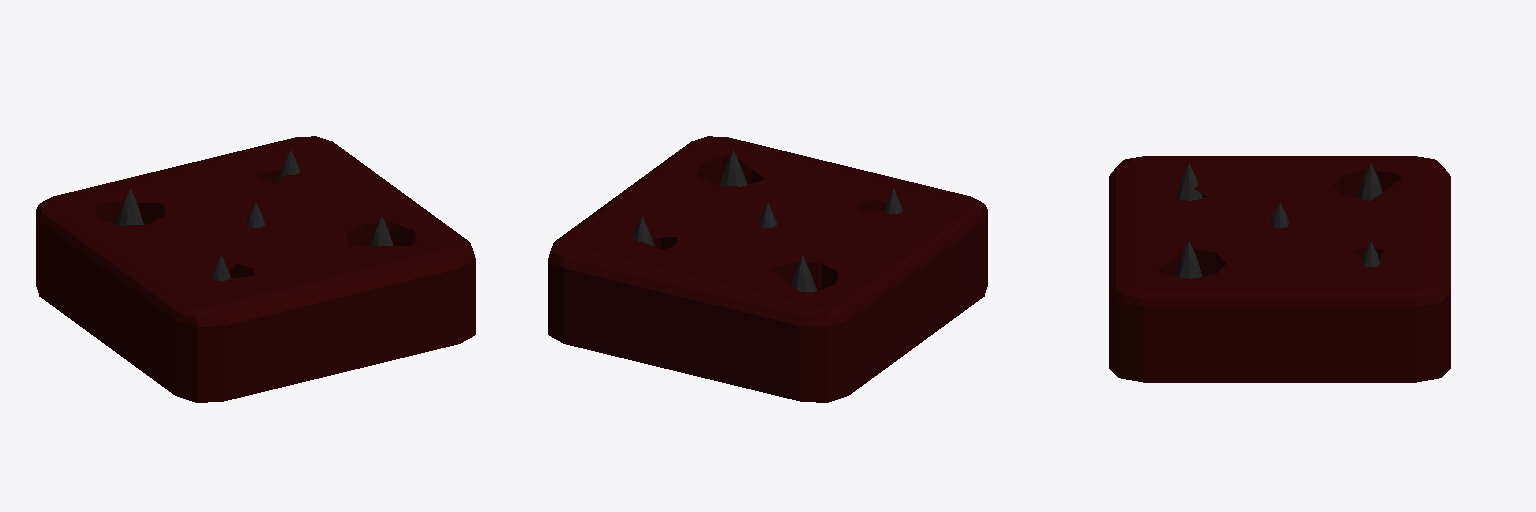
File: Hazard_SpikeTrap.obj
3 renders of one model, left to right at view 1: azimuth 30°, elevation 25°; view 2: azimuth 150°, elevation 25°; view 3: azimuth 270°, elevation 25°, orthographic.
Parts seen in each view (by area): view 1: Hazard_SpikeTrap_Cube.183; view 2: Hazard_SpikeTrap_Cube.183; view 3: Hazard_SpikeTrap_Cube.183.
Boxes of the visible parts, <box> form: Hazard_SpikeTrap_Cube.183: <box>36,136,475,402</box>; Hazard_SpikeTrap_Cube.183: <box>548,136,987,402</box>; Hazard_SpikeTrap_Cube.183: <box>1109,156,1450,382</box>.
Bounding box in the file's own units: 2 × 0.6968 × 2.